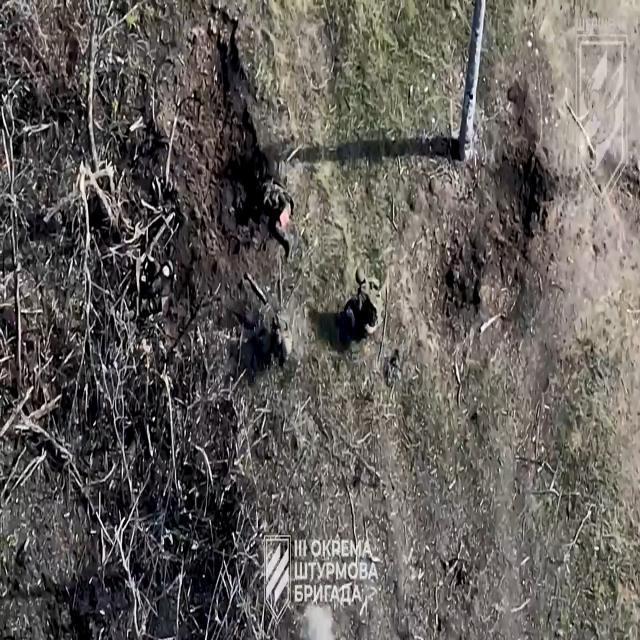MIL_Pax: (336, 267, 382, 342), (272, 316, 291, 364)
